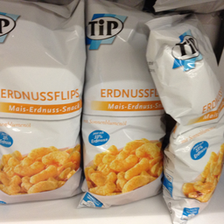chips: (1, 1, 84, 203), (85, 1, 167, 205), (149, 19, 221, 224)
